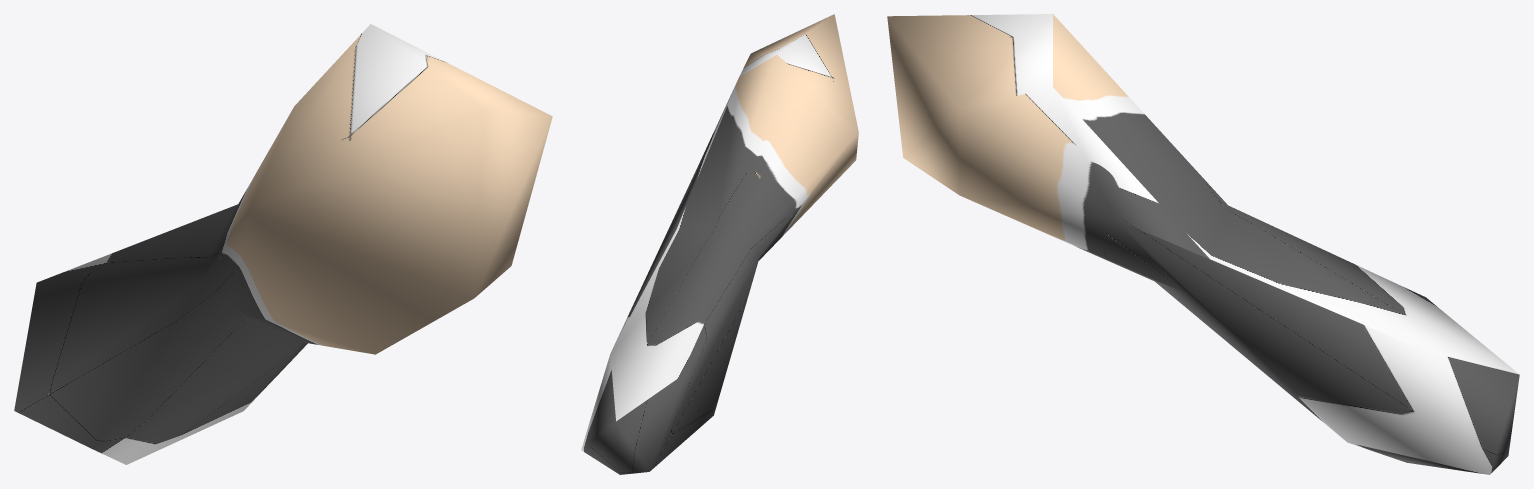
The model's file is playerRightLeg.obj.
The picture shows the model from 3 angles, left to right: view 1: azimuth 30°, elevation 25°; view 2: azimuth 150°, elevation 25°; view 3: azimuth 270°, elevation 25°; orthographic projection. The views are drawn at different scales.
Parts seen in each view (by area): view 1: 右足; view 2: 右足; view 3: 右足.
Part boxes in pixels (box(x1,y1,x2,y2)): 右足: box(14, 24, 552, 464); 右足: box(581, 14, 858, 474); 右足: box(887, 14, 1519, 474).
Size of the model in its own units: 0.7211 by 1.64 by 2.09.
